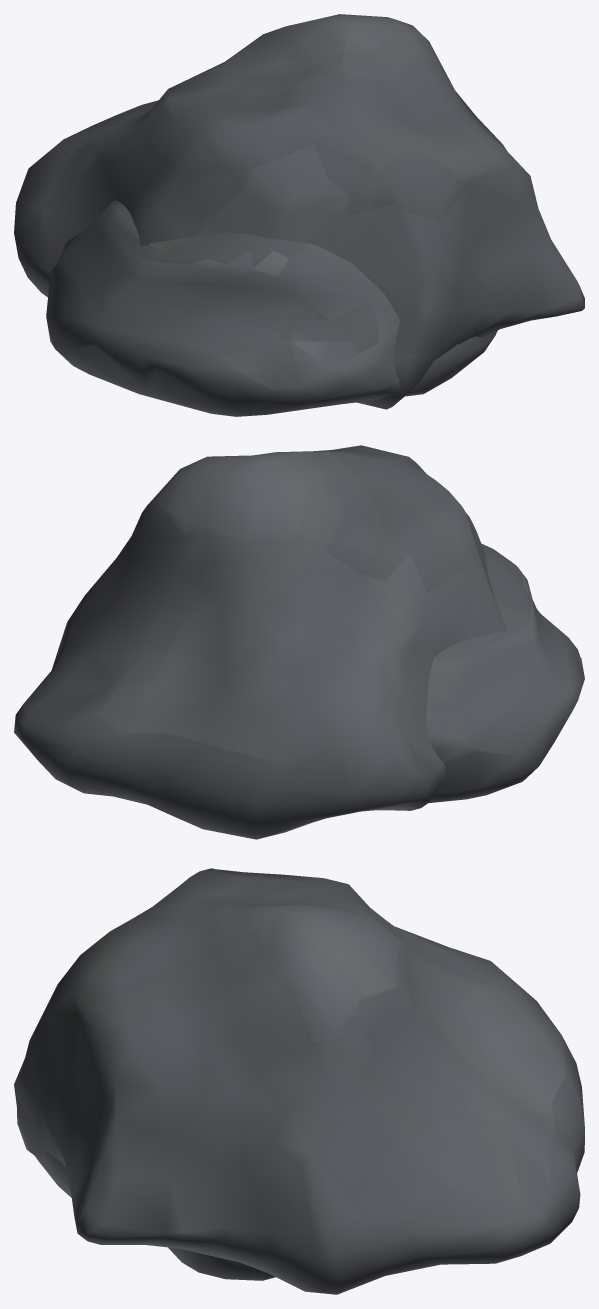
The model's file is Rocks.fbx.
3 views of the same model, one above another, from view 1: azimuth 30°, elevation 25°; view 2: azimuth 150°, elevation 25°; view 3: azimuth 270°, elevation 25° (orthographic). The views are drawn at different scales.
Visible parts, largest first — view 1: Rock02, Rock03; view 2: Rock02, Rock03; view 3: Rock02, Rock01, Rock03.
Boxes of the visible parts, bbox=[...] form: Rock02: bbox=[14, 14, 584, 409]; Rock03: bbox=[46, 200, 497, 416]; Rock02: bbox=[14, 445, 507, 839]; Rock03: bbox=[426, 543, 584, 803]; Rock02: bbox=[14, 868, 584, 1294]; Rock01: bbox=[168, 1247, 275, 1280]; Rock03: bbox=[17, 1109, 71, 1197].
Bounding box in the file's own units: 528 × 362 × 516.
